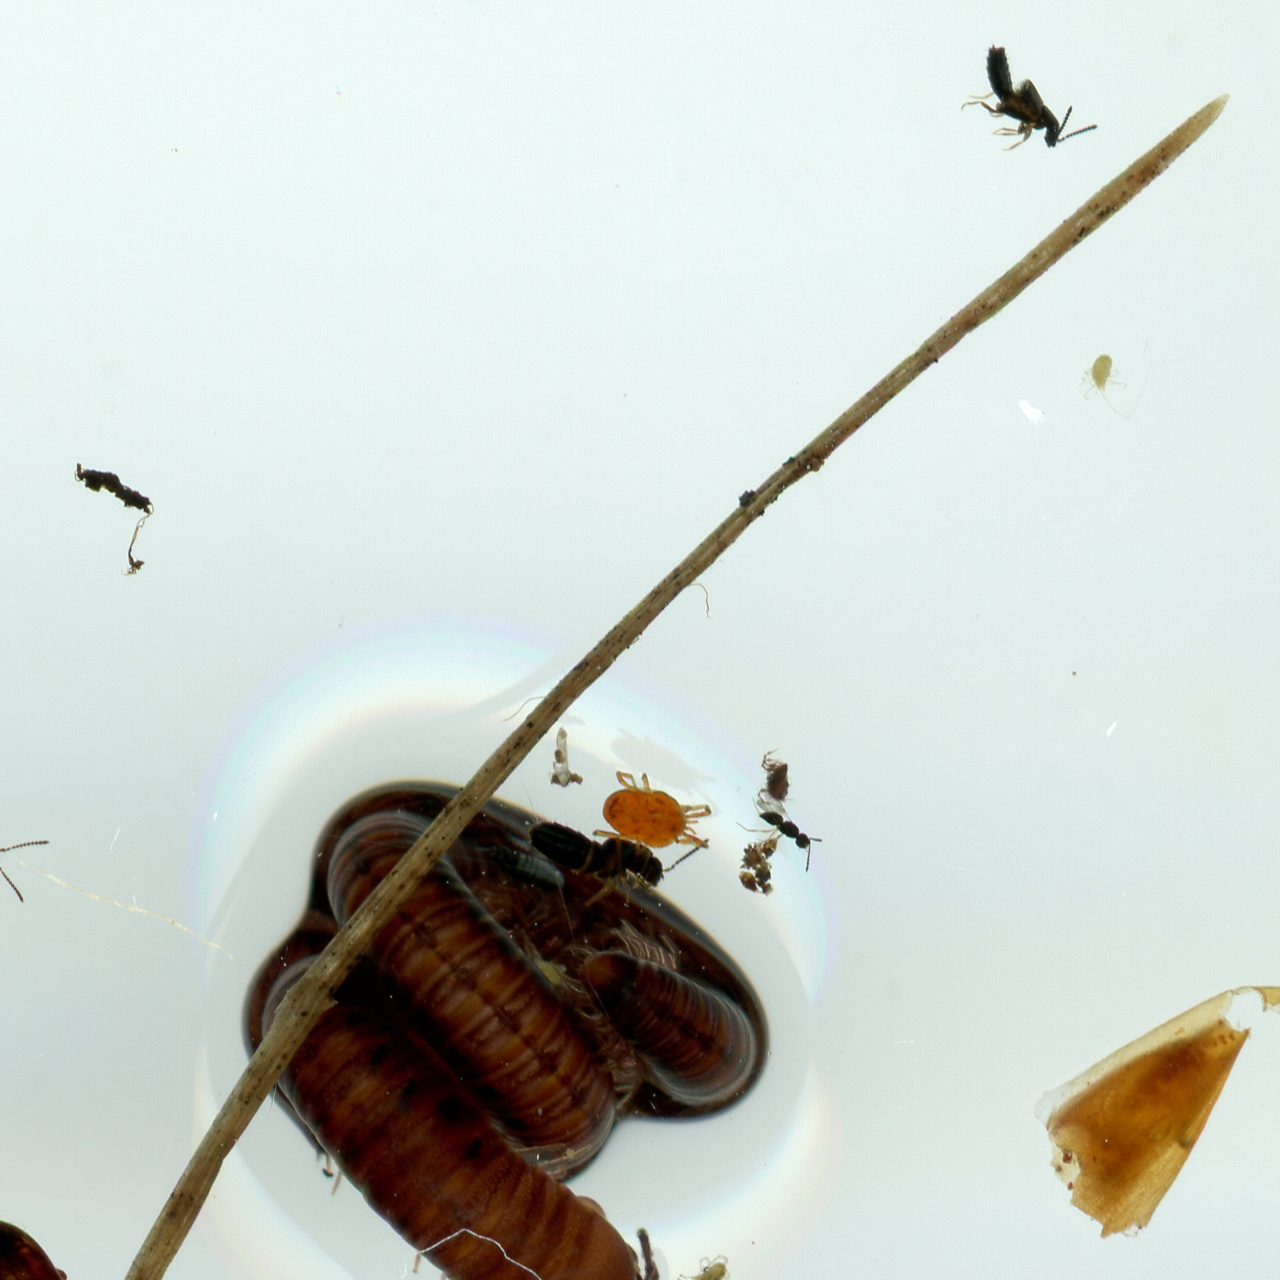arthropod: (244, 777, 765, 1280), (958, 41, 1098, 152), (531, 821, 665, 905), (591, 770, 713, 850), (0, 1204, 84, 1280), (738, 797, 824, 871), (1076, 340, 1156, 418), (0, 782, 50, 903), (656, 1250, 733, 1280), (761, 745, 795, 795)
